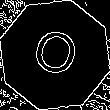O_S: (28, 25, 82, 85)
